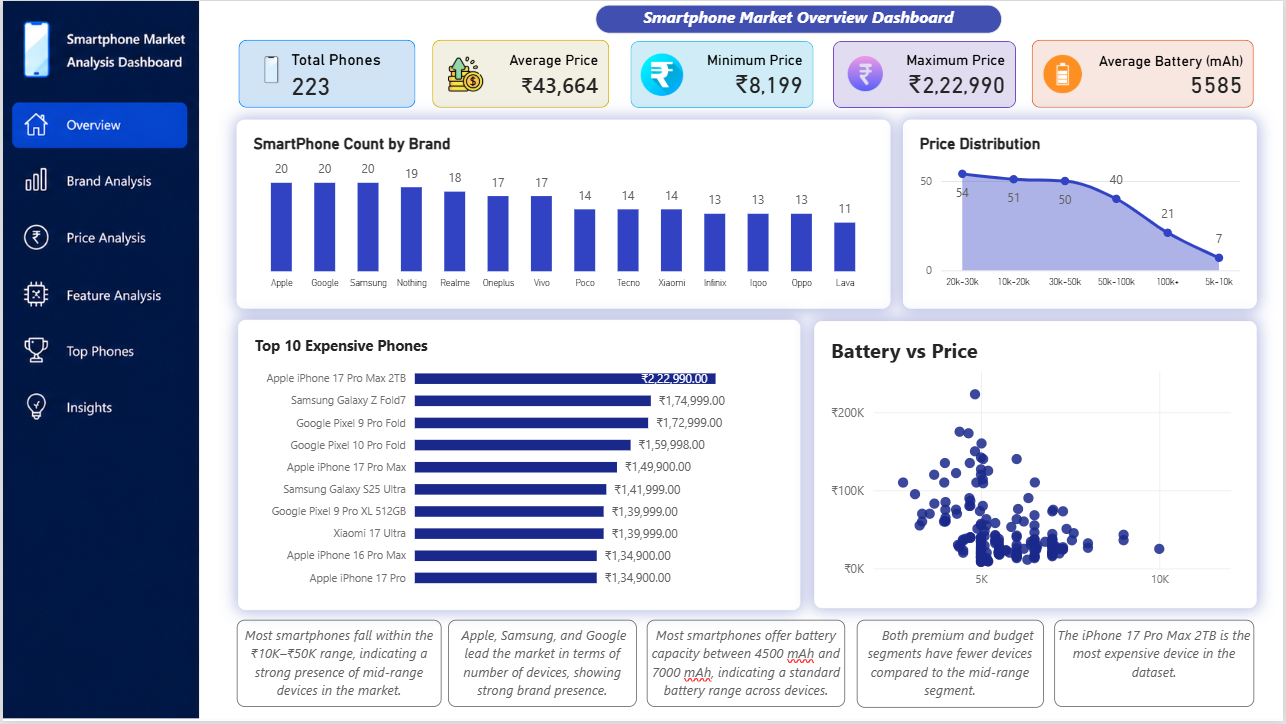

What the dashboard file says about the page in this screenshot:
{"tool":"powerbi","page":{"name":"Overview","canvas":[1280,720],"ordinal":0},"visuals":[{"type":"cardVisual","fields":{"Data":["Avg(Phone_Specs.price_inr)"]},"box":[421.2,38.8,193.8,68.8],"z":0},{"type":"image","box":[445,47.5,35,51.2],"z":1000},{"type":"cardVisual","fields":{"Data":["Min(Phone_Specs.price_inr)"]},"box":[627.5,40,183.8,67.5],"z":2000},{"type":"image","box":[633.8,52.5,50,42.5],"z":3000},{"type":"cardVisual","fields":{"Data":["Max(Phone_Specs.price_inr)"]},"box":[830,40,183.8,67.5],"z":4000},{"type":"image","box":[837.5,55,50,35],"z":5000},{"type":"cardVisual","fields":{"Data":["Avg(Phone_Specs.battery)"]},"box":[1028.8,38.8,222.5,68.8],"z":6000},{"type":"image","box":[1021.2,36.2,76.2,73.8],"z":7000},{"type":"cardVisual","fields":{"Data":["CountNonNull(Phone_Specs.phone_name)"]},"box":[227.5,38.8,193.8,68.8],"z":8000},{"type":"columnChart","title":"SmartPhone Count by Brand","fields":{"Category":["Phone_Specs.brand"],"Y":["CountNonNull(Phone_Specs.phone_name)"]},"box":[233.8,118.5,653.8,188.8],"z":9000},{"type":"areaChart","title":"Price Distribution","fields":{"Category":["Phone_Specs.Price_Range"],"Y":["CountNonNull(Phone_Specs.phone_name)"]},"box":[900,118.5,353.8,188.8],"z":10000},{"type":"clusteredBarChart","title":"Top 10 Expensive Phones","fields":{"Category":["Phone_Specs.phone_name"],"Y":["Sum(Phone_Specs.list_price_inr)"]},"box":[235,318.8,562.5,290],"z":11000},{"type":"scatterChart","title":"Battery vs Price","fields":{"X":["Phone_Specs.battery"],"Y":["Phone_Specs.list_price_inr"]},"box":[811.2,320,442.5,287.5],"z":12000},{"type":"textbox","box":[592.5,3.8,406.2,28.8],"z":13000},{"type":"textbox","box":[233.8,618.8,205,87.5],"z":14000},{"type":"textbox","box":[445,618.8,188.8,87.5],"z":15000},{"type":"textbox","box":[643.8,618.8,198.8,87.5],"z":16000},{"type":"textbox","box":[854.2,618.9,187,88.1],"z":17000},{"type":"textbox","box":[1051.2,618.8,200,87.5],"z":18000},{"type":"actionButton","box":[17.5,213.8,147.5,45],"z":19000},{"type":"actionButton","box":[16.7,273.8,147.5,46.2],"z":20000},{"type":"actionButton","box":[13,333.8,147.5,45],"z":21000},{"type":"actionButton","box":[6.2,378.8,168.8,46.2],"z":22000},{"type":"actionButton","box":[17.5,155,157.5,46.2],"z":23000}]}

Visuals, with their boxes on the page's 1280x720 design canvas (x1, y1, x2, y2). These are canvas units, not pixel positions in the 1286x724 screenshot, which may show the page scaled, cropped or inside an application window:
cardVisual - Avg(Phone_Specs.price_inr): (421,39,615,108)
image: (445,48,480,99)
cardVisual - Min(Phone_Specs.price_inr): (628,40,811,108)
image: (634,52,684,95)
cardVisual - Max(Phone_Specs.price_inr): (830,40,1014,108)
image: (838,55,888,90)
cardVisual - Avg(Phone_Specs.battery): (1029,39,1251,108)
image: (1021,36,1097,110)
cardVisual - CountNonNull(Phone_Specs.phone_name): (228,39,421,108)
"SmartPhone Count by Brand" columnChart: (234,118,888,307)
"Price Distribution" areaChart: (900,118,1254,307)
"Top 10 Expensive Phones" clusteredBarChart: (235,319,798,609)
"Battery vs Price" scatterChart: (811,320,1254,608)
textbox: (592,4,999,33)
textbox: (234,619,439,706)
textbox: (445,619,634,706)
textbox: (644,619,843,706)
textbox: (854,619,1041,707)
textbox: (1051,619,1251,706)
actionButton: (18,214,165,259)
actionButton: (17,274,164,320)
actionButton: (13,334,160,379)
actionButton: (6,379,175,425)
actionButton: (18,155,175,201)
